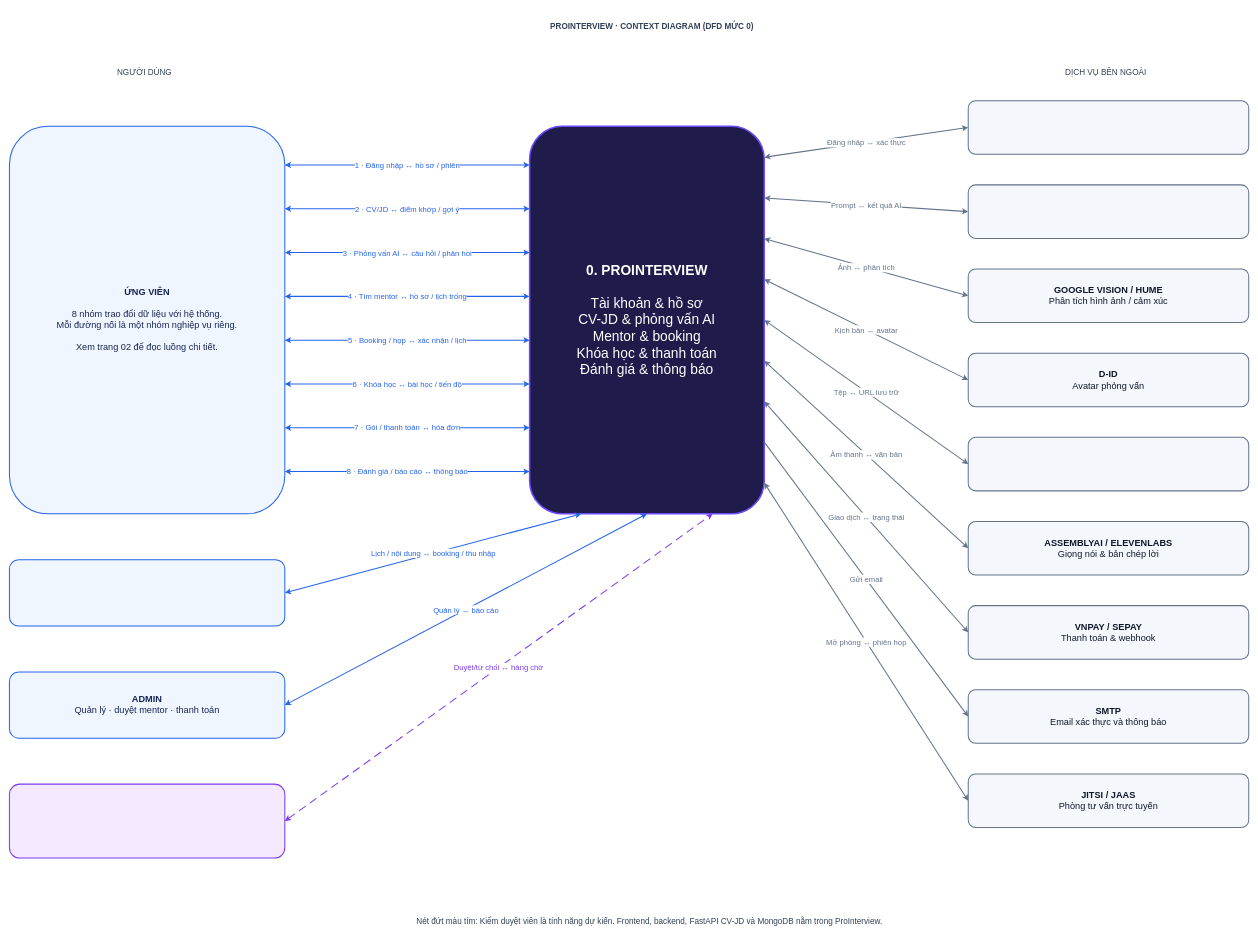
Some shapes in this 1258 by 943 pixel diagram are drawn without their labels. The shapes that lost their labels are listed below. From the top down, each one's box as (x1, y1, x2, y2) in pixels, then its label:
(967, 100, 1249, 155): GOOGLE SIGN-IN Đăng nhập & xác thực
(967, 184, 1249, 239): NHÀ CUNG CẤP LLM Câu hỏi · chấm điểm · gợi ý
(967, 437, 1249, 491): CLOUDINARY Ảnh · CV · âm thanh · video
(9, 559, 285, 626): MENTOR Lịch rảnh · tư vấn · tạo khóa học
(9, 783, 285, 858): KIỂM DUYỆT VIÊN Câu hỏi · CV-JD · Review Queue · Quality
